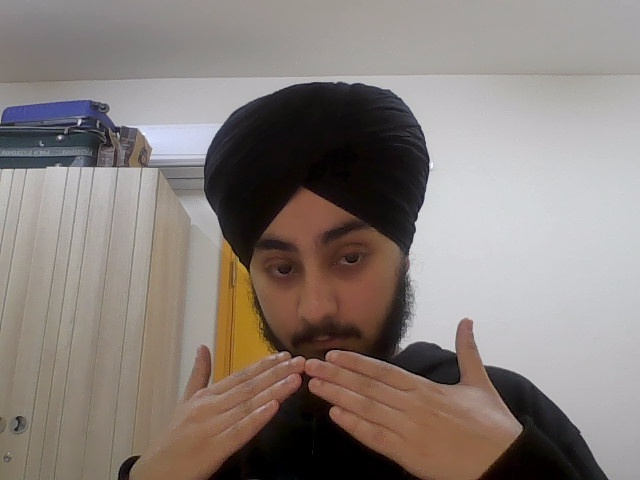Thanks: (140, 315, 525, 480)
